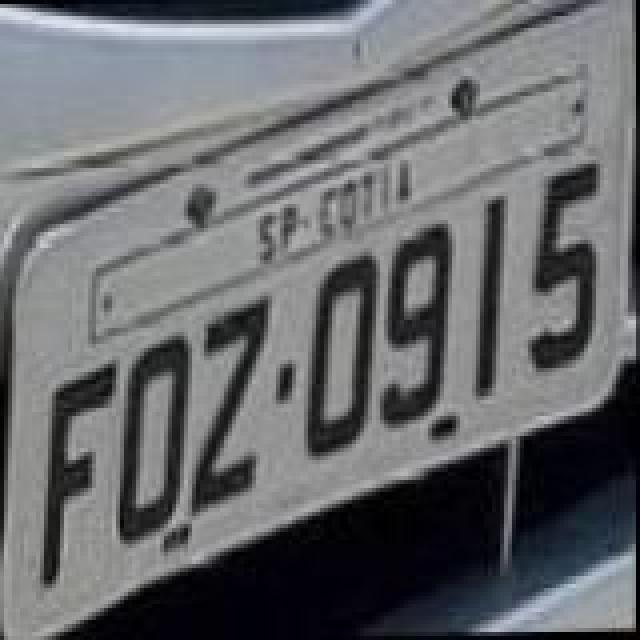1: (470, 194, 510, 406)
5: (526, 156, 606, 372)
9: (378, 218, 458, 430)
F: (36, 362, 124, 590)
O: (114, 330, 198, 546), (300, 252, 384, 464)
Z: (186, 292, 278, 516)
